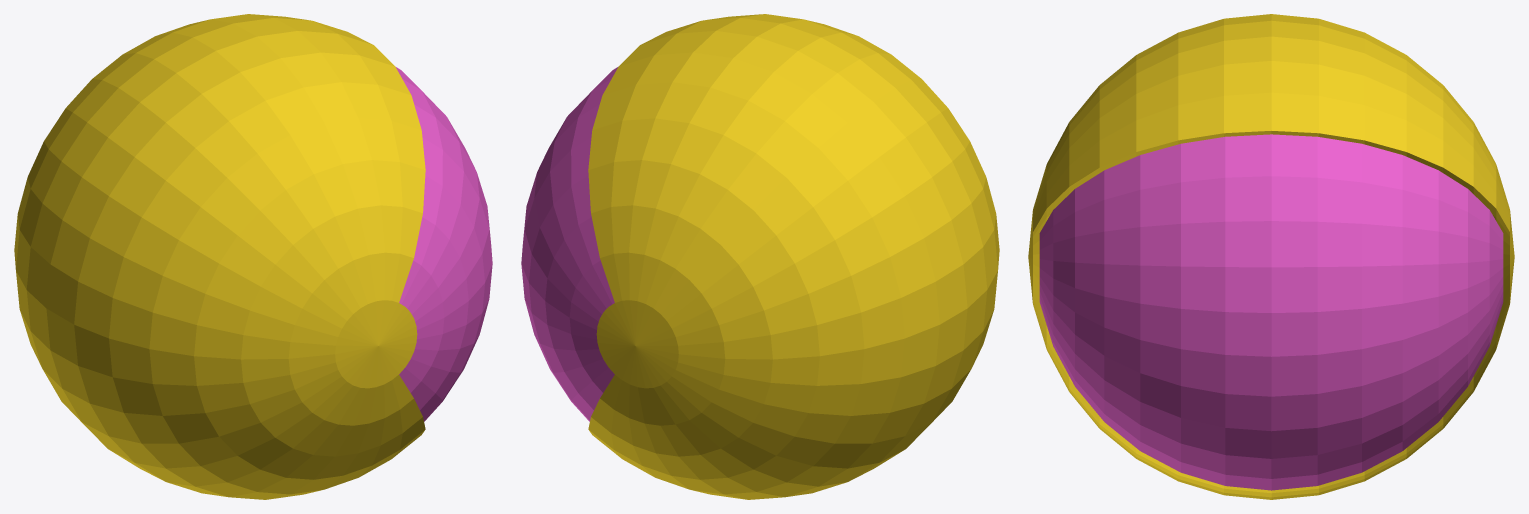
The model's file is chomp_04.gltf.
3 views of the same model, side by side, from view 1: azimuth 30°, elevation 25°; view 2: azimuth 150°, elevation 25°; view 3: azimuth 270°, elevation 25° (orthographic).
Visible parts, largest first — view 1: Sphere, Sphere.001; view 2: Sphere, Sphere.001; view 3: Sphere.001, Sphere.
Boxes of the visible parts, x1,y1,x2,y2 form: Sphere: (14, 14, 425, 499); Sphere.001: (396, 67, 492, 421); Sphere: (588, 14, 999, 499); Sphere.001: (521, 67, 617, 421); Sphere.001: (1039, 134, 1503, 490); Sphere: (1028, 14, 1514, 499).
Bounding box in the file's own units: 1.97 × 2 × 2.
